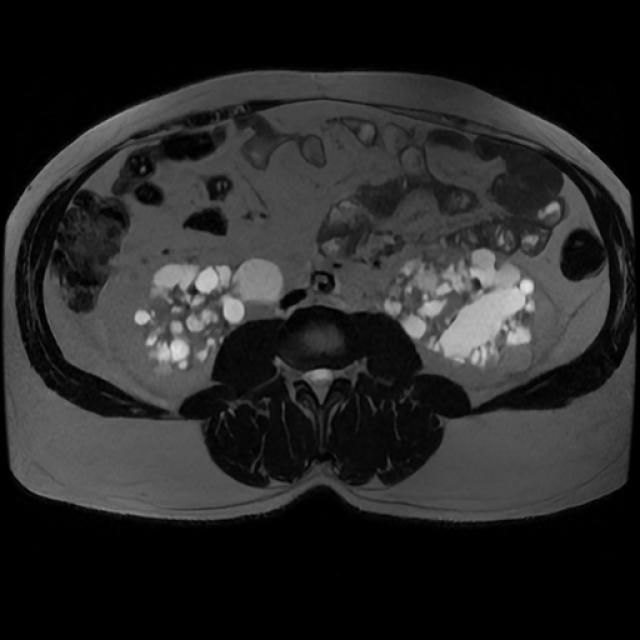sag: (135, 256, 284, 377)
sol: (383, 248, 536, 371)
